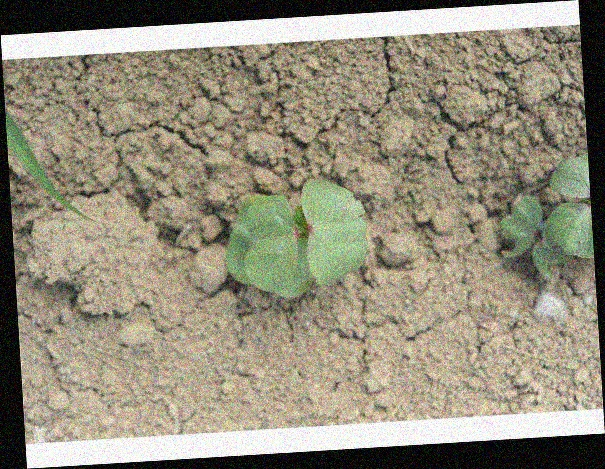cotton: (223, 179, 369, 300), (497, 157, 591, 279)
